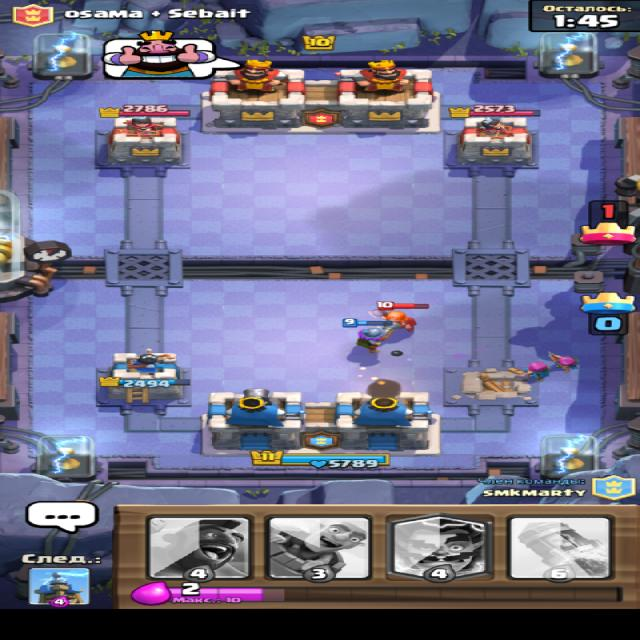Enemy-Valkyrie: (365, 300, 431, 333)
Player-Archer: (510, 361, 550, 383), (545, 350, 580, 372)
Player-Musketeer: (340, 317, 401, 353)
